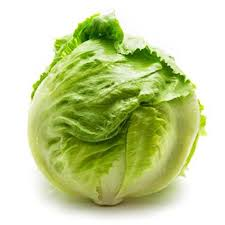lettuce: (28, 14, 202, 207)
